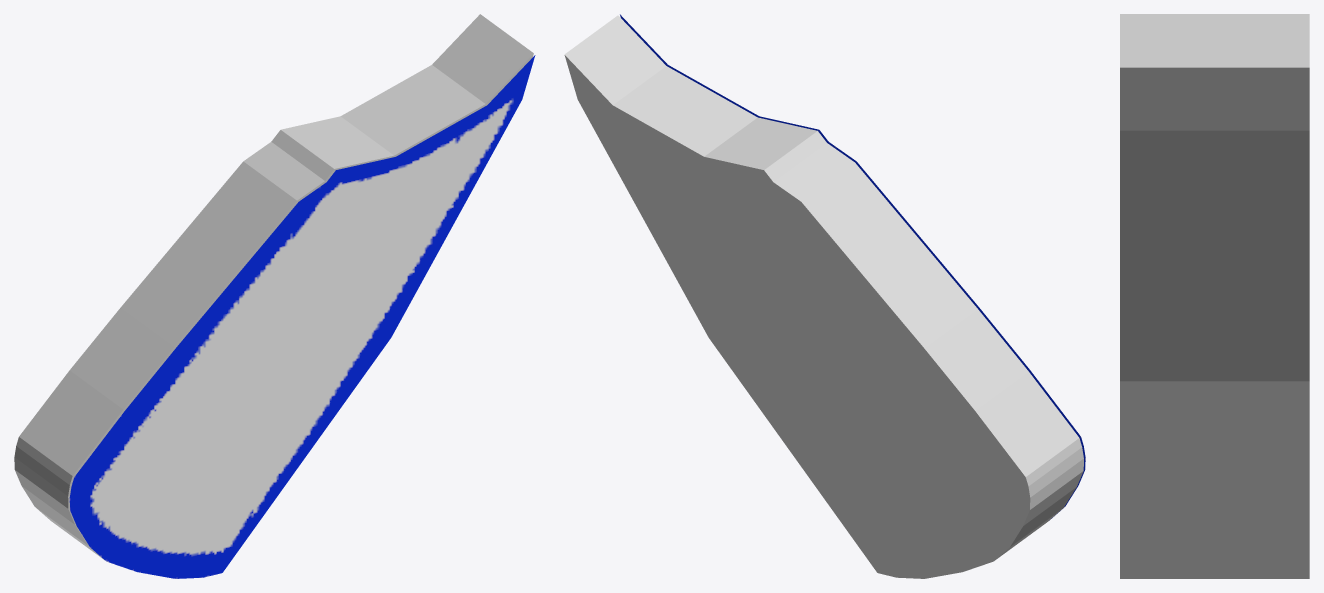
3 views of the same model, side by side, from view 1: azimuth 30°, elevation 25°; view 2: azimuth 150°, elevation 25°; view 3: azimuth 270°, elevation 25° (orthographic). The views are drawn at different scales.
Visible parts, largest first — view 1: In_4_1, In_4_0; view 2: In_4_0, In_4_1; view 3: In_4_0.
Part boxes in pixels (x1,y1,x2,y2): In_4_1: [69, 55, 535, 578]; In_4_0: [14, 14, 533, 559]; In_4_0: [564, 15, 1083, 578]; In_4_1: [620, 14, 1085, 520]; In_4_0: [1120, 14, 1309, 578].
Bounding box in the file's own units: 2.5 × 2.27 × 0.515.
2 materials, 1 textured.
